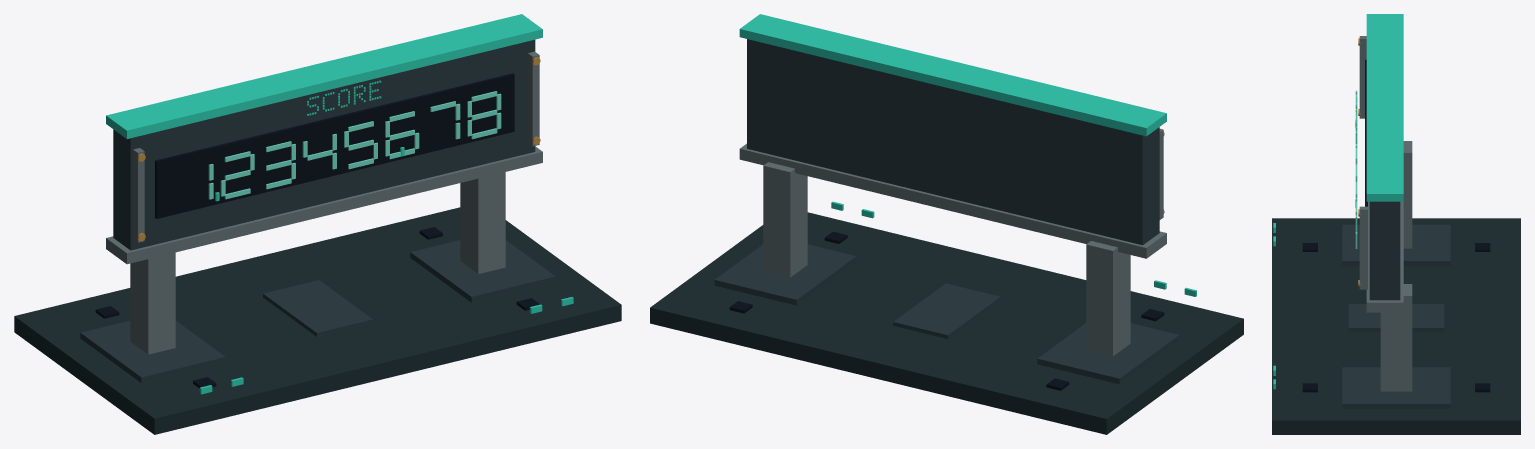
Rendered from beacon_scoreboard_d0_lod0.meshopt.glb.
3 renders of one model, left to right at view 1: azimuth 30°, elevation 25°; view 2: azimuth 150°, elevation 25°; view 3: azimuth 270°, elevation 25°, orthographic. The views are drawn at different scales.
Visible parts, largest first — view 1: SCOREBOARD_STRUCTURE, SCORE_STATIC_DIGITS; view 2: SCOREBOARD_STRUCTURE; view 3: SCOREBOARD_STRUCTURE, SCORE_STATIC_DIGITS.
Part boxes in pixels (<box>): SCOREBOARD_STRUCTURE: <box>14,14,621,434</box>; SCORE_STATIC_DIGITS: <box>208,91,501,199</box>; SCOREBOARD_STRUCTURE: <box>650,14,1243,434</box>; SCOREBOARD_STRUCTURE: <box>1272,14,1520,434</box>; SCORE_STATIC_DIGITS: <box>1355,90,1357,248</box>.
Bounding box in the file's own units: 7.5 × 3.97 × 3.9.
